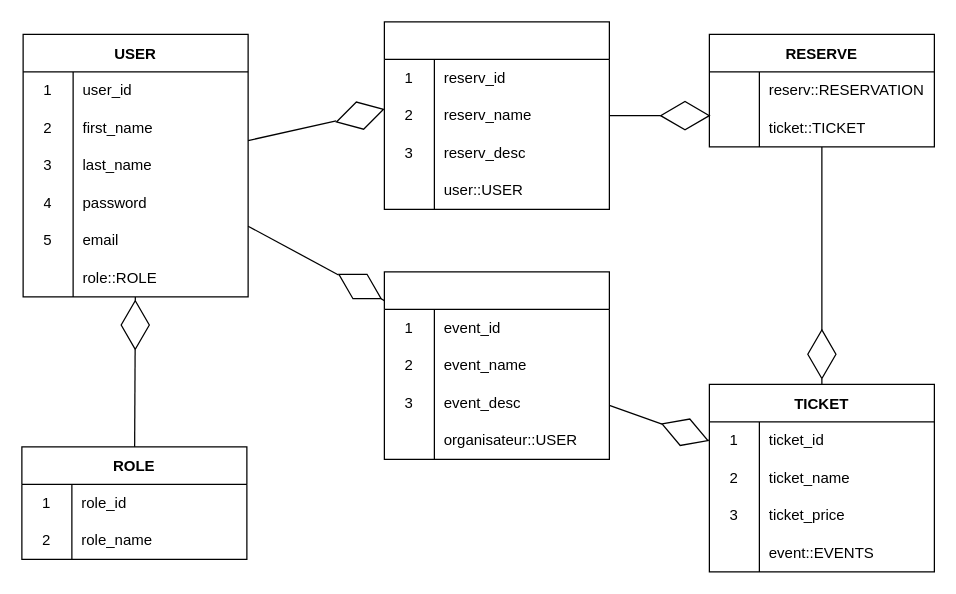
Image size: 956x594. Some labels were removed from this diagram. Here are the shapes that lost their labels. From the top down, the box of each, then its label:
(383, 21, 609, 209): RESERVATION
(383, 271, 609, 459): EVENTS
